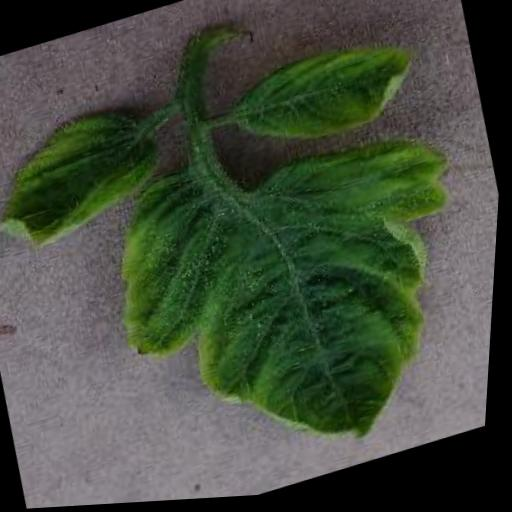Yellow Leaf Curl Virus: (85, 92, 507, 507), (224, 31, 427, 169), (0, 98, 174, 256)
